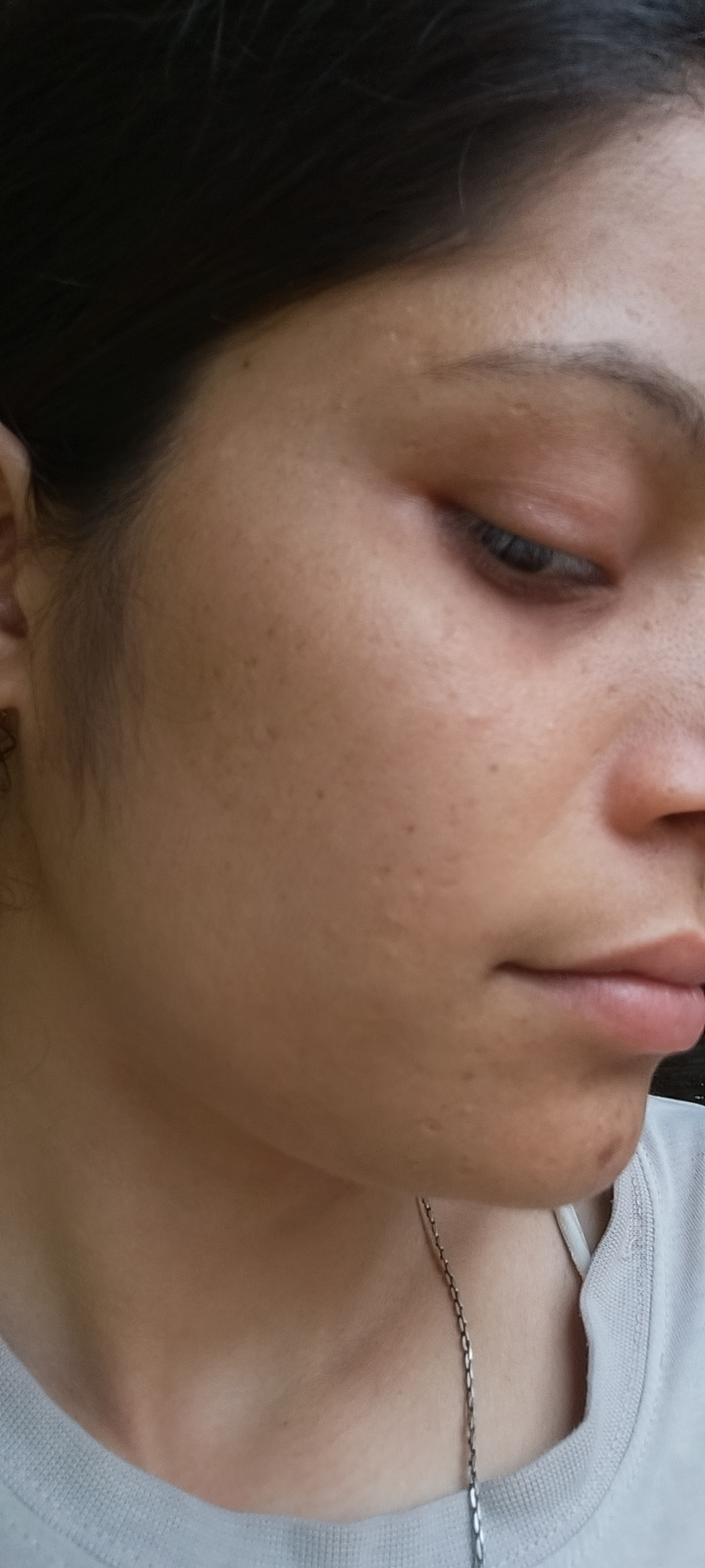closed_comedone: (334, 399, 349, 411), (459, 1104, 472, 1115), (543, 719, 553, 732)
open_comedone: (656, 620, 705, 670)
